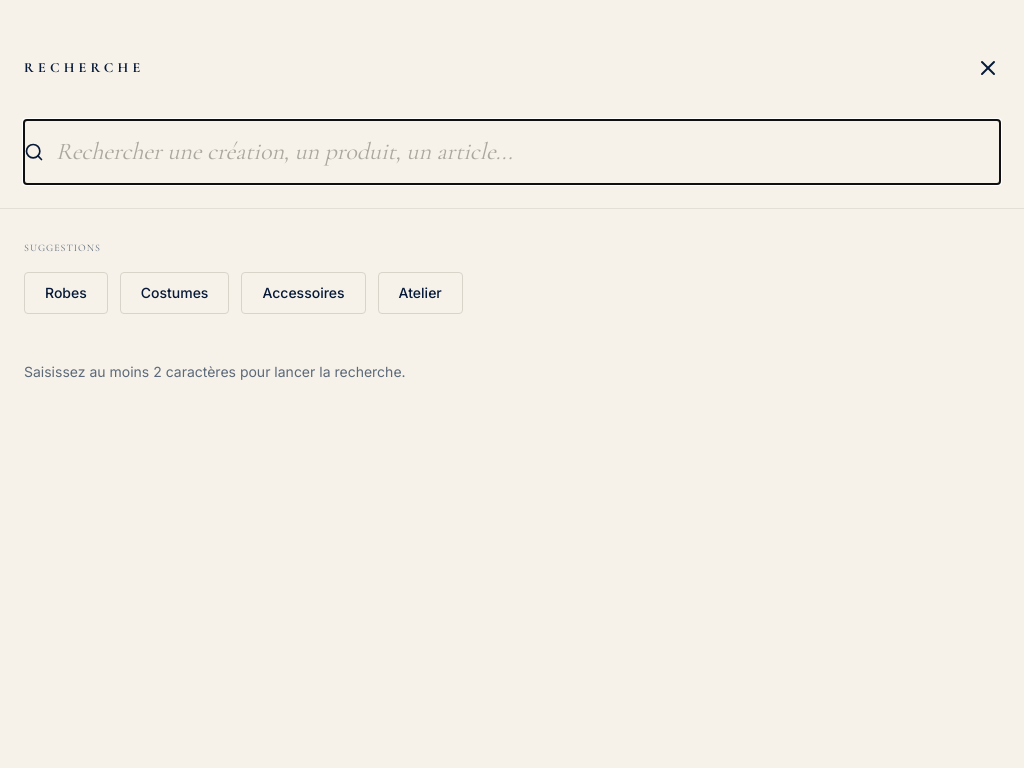
it: MobileSearchOverlay › fetches and renders grouped results after typing, only for non-empty groups
This screenshot has width=1024, height=768.
Type "robe" into the field labelled "Rechercher" at (512, 152), box [24,120,1000,184]
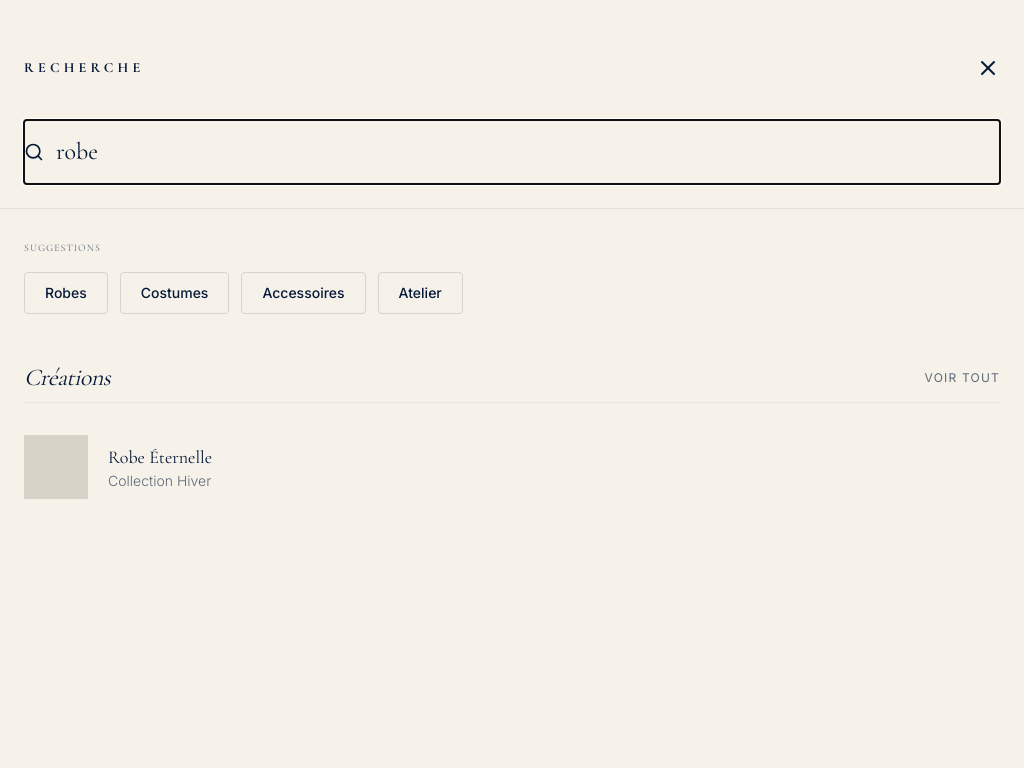
Check: the heading "Robe Éternelle" is shown, box [108,443,212,471]
Check: the heading "Créations" is shown, box [24,362,110,394]
